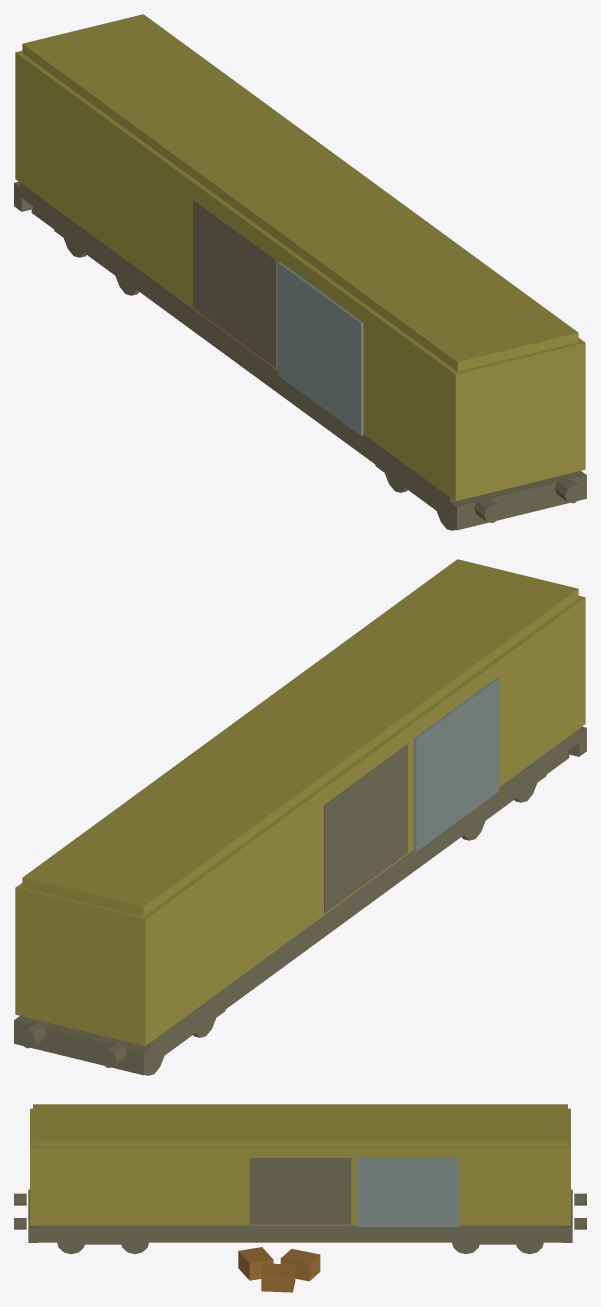
The model's file is SM_VagonAbandonado_v2_Cerrado_LOD1.fbx.
The picture shows the model from 3 angles, top to bottom: view 1: azimuth 30°, elevation 25°; view 2: azimuth 150°, elevation 25°; view 3: azimuth 270°, elevation 25°; orthographic projection. The views are drawn at different scales.
Visible parts, largest first — view 1: SM_vagon_abandonado_v2_LOD1; view 2: SM_vagon_abandonado_v2_LOD1; view 3: SM_vagon_abandonado_v2_LOD1.
Boxes of the visible parts, left/top/right/bottom form: SM_vagon_abandonado_v2_LOD1: left=14, top=14, right=586, bottom=530; SM_vagon_abandonado_v2_LOD1: left=14, top=559, right=586, bottom=1075; SM_vagon_abandonado_v2_LOD1: left=14, top=1104, right=586, bottom=1292.
Size of the model in its own units: 5.71 by 4.15 by 18.
